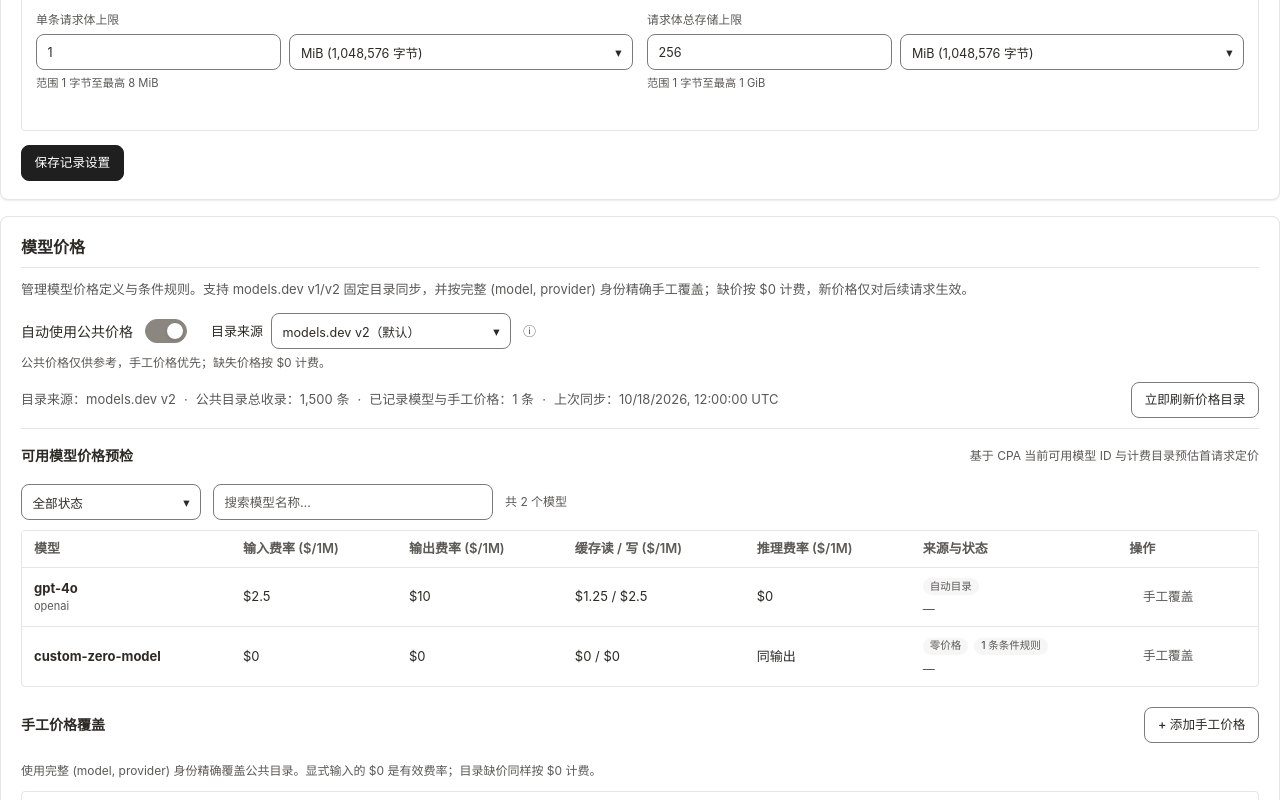
Test: SettingsPage › honestly displays catalog refresh failure without false success
(page scrolled)
Click the button with test id "prices-refresh". click: [1195, 400]
box: [1131,382,1259,418]
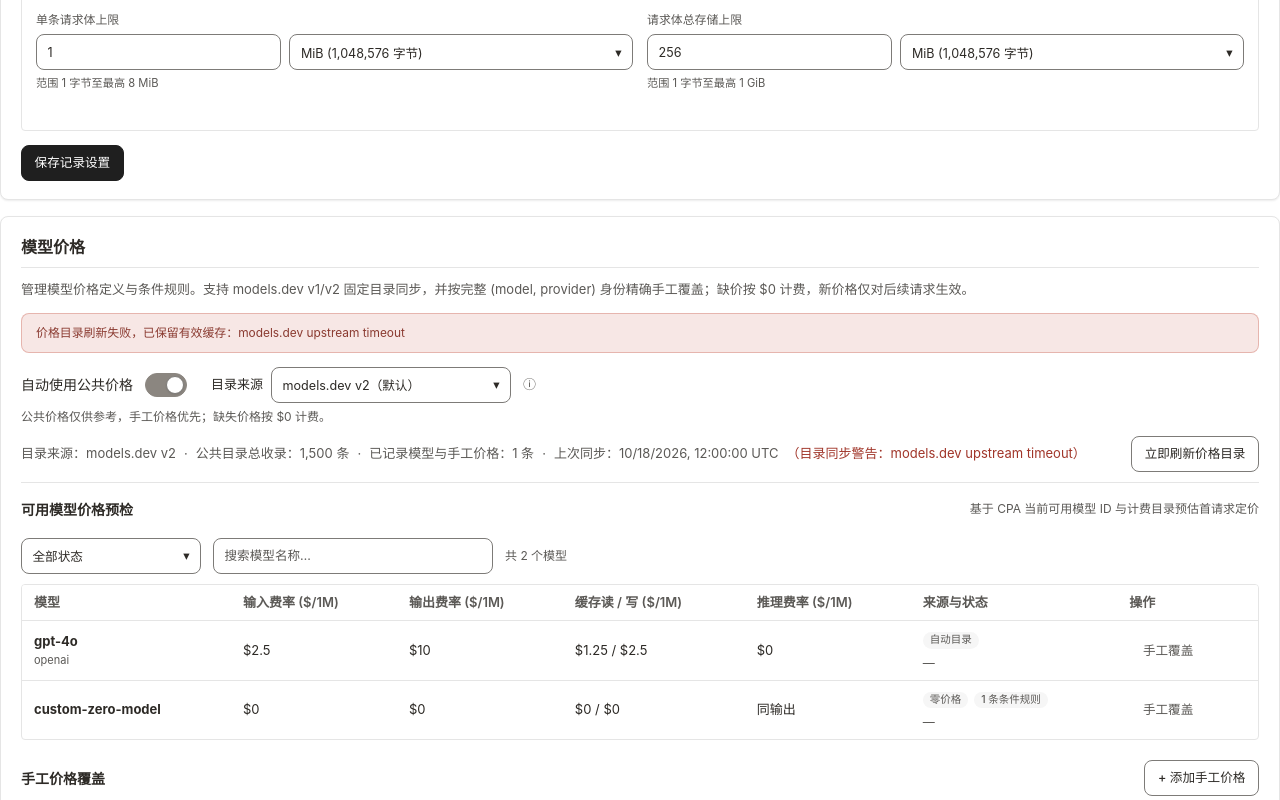
Expected: the text "公共目录总收录：1,500 条" is shown, [196,445,349,461]
Now the text "价格目录刷新失败，已保留有效缓存：models.dev upstream timeout" is shown, box [21,313,1259,353]
